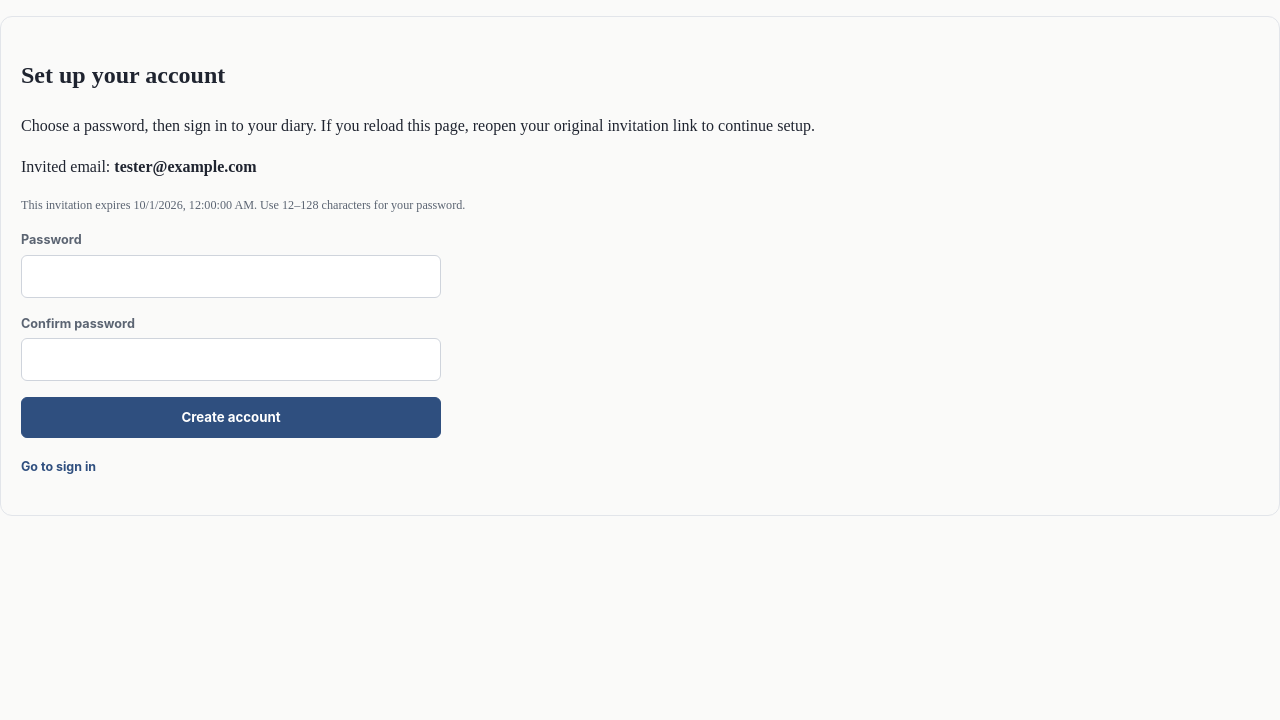
provides the same sign-in recovery when a retry finds the link already used
Expected: the button "Create account" is shown, [21,397,441,438]
Type "a long password" into the password field labelled "Password" at [231, 276], box [21,255,441,298]
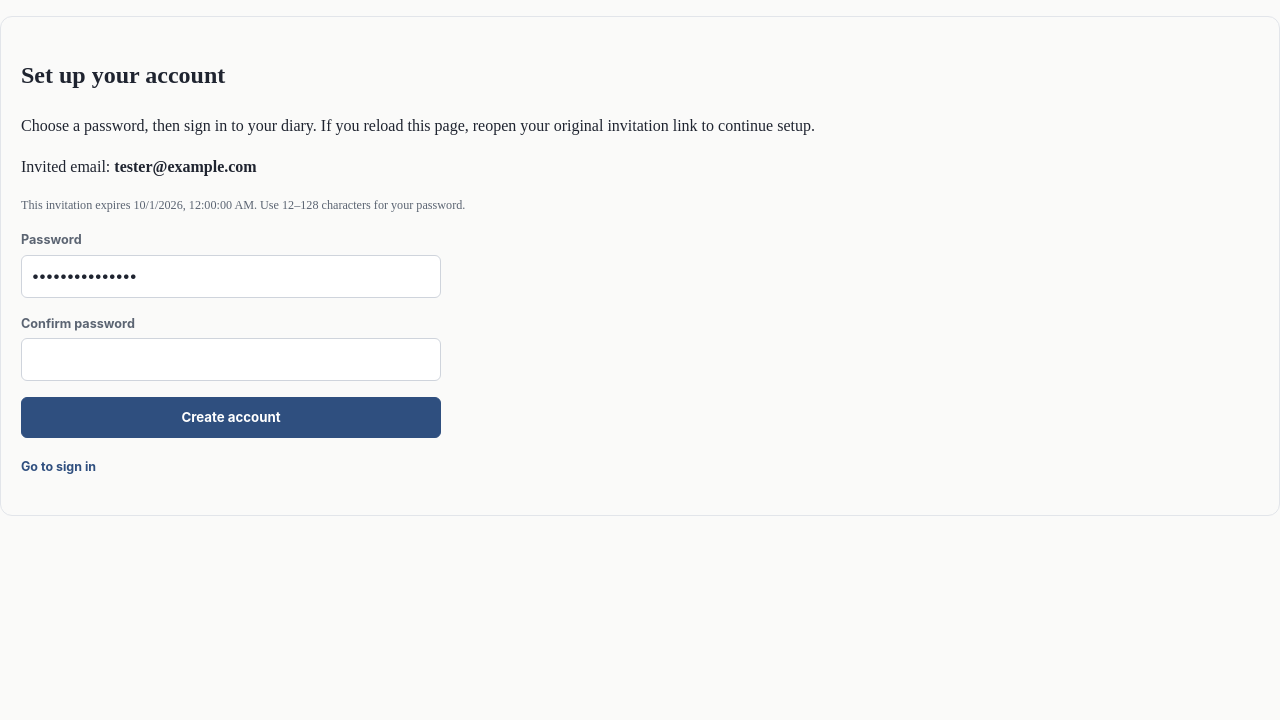
Type "a long password" into the password field labelled "Confirm password" at [231, 360], box [21,338,441,381]
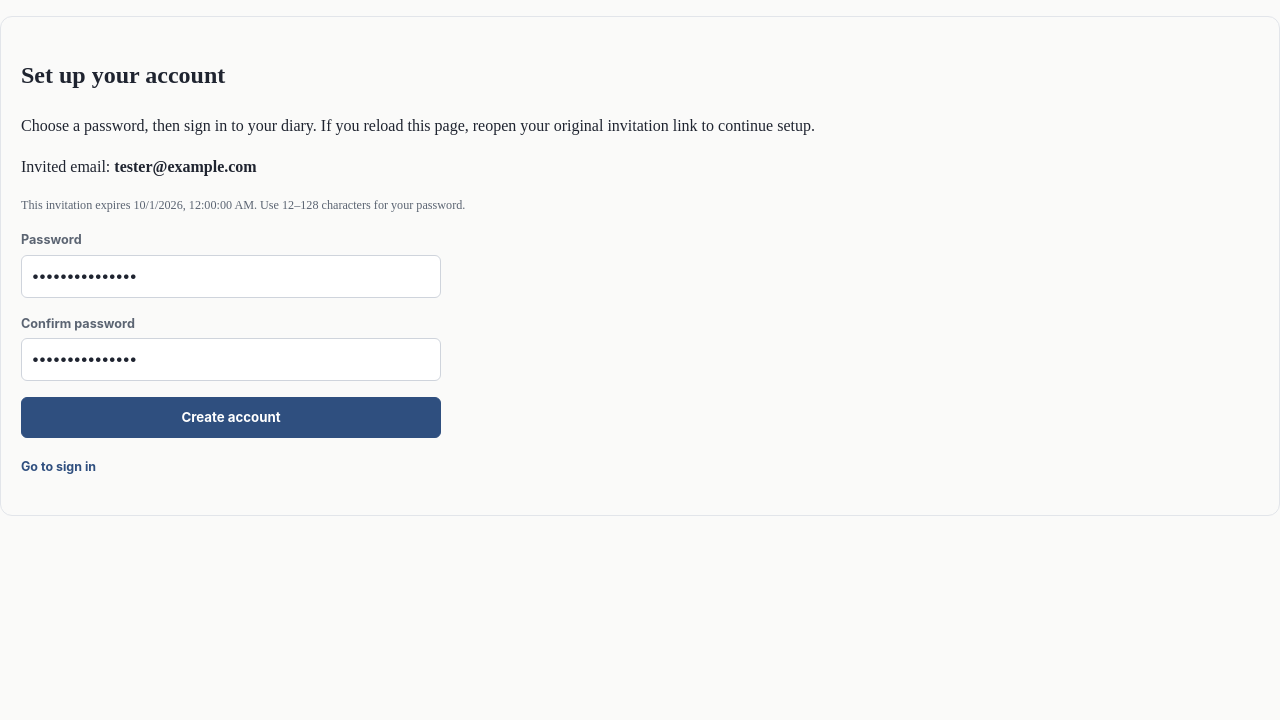
Submit the form "Create account", box [21,230,441,438]
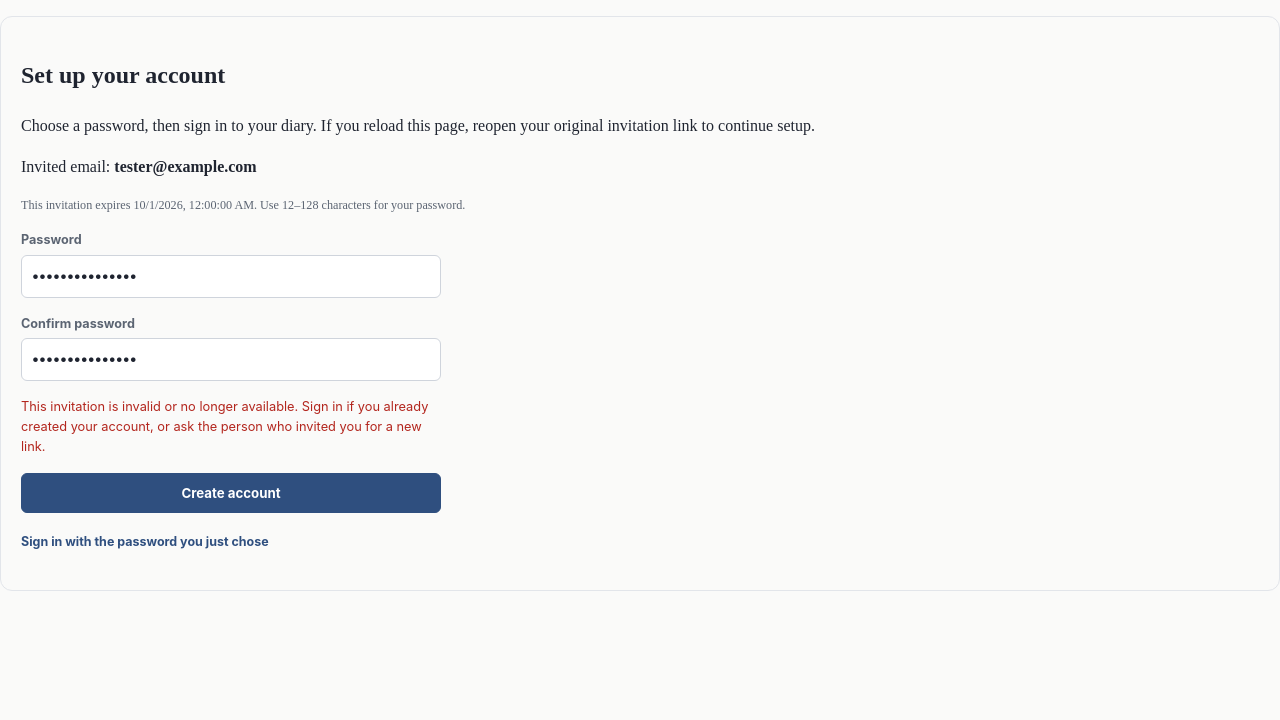
Expected: the message shows "This invitation is invalid or no longer available. Sign in if you already created your account, or ask the person who invited you for a new link.", [21,399,428,454]
Expected: the button "Sign in with the password you just chose" is shown, [21,532,269,552]
